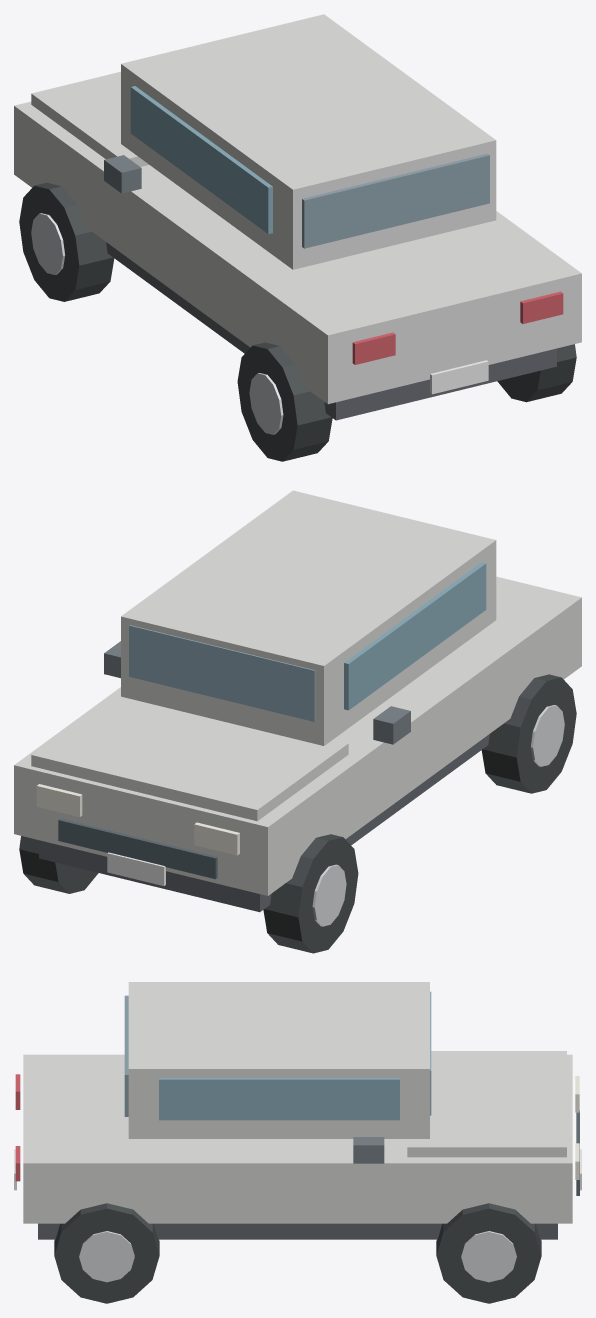
Rendered from fox.glb.
3 renders of one model, top to bottom at view 1: azimuth 30°, elevation 25°; view 2: azimuth 150°, elevation 25°; view 3: azimuth 270°, elevation 25°, orthographic. The views are drawn at different scales.
Visible parts, largest first — view 1: body_0001, roof_0018, rear_window_0020, side_window_0021, wheel_tire_0004, wheel_tire_0006, hood_0002, chassis_0000, wheel_tire_0013, wheel_rim_0005, wheel_rim_0007, license_plate_rear_0024 (+3 smaller); view 2: roof_0018, body_0001, hood_0002, windshield_0019, side_window_0021, wheel_tire_0004, wheel_tire_0006, chassis_0000, front_grille_0003, wheel_tire_0011, wheel_rim_0005, wheel_rim_0007 (+4 smaller); view 3: body_0001, roof_0018, hood_0002, side_window_0022, wheel_tire_0011, wheel_tire_0013, chassis_0000, wheel_rim_0012, wheel_rim_0014, mirror_0017, rear_window_0020.
Boxes of the visible parts, <box> form: body_0001: <box>14,101,581,404</box>; roof_0018: <box>121,14,496,269</box>; rear_window_0020: <box>302,153,489,248</box>; side_window_0021: <box>130,86,272,234</box>; wheel_tire_0004: <box>19,182,114,301</box>; wheel_tire_0006: <box>237,342,332,461</box>; hood_0002: <box>31,71,148,166</box>; chassis_0000: <box>106,242,556,420</box>; wheel_tire_0013: <box>497,344,576,402</box>; wheel_rim_0005: <box>31,213,65,274</box>; wheel_rim_0007: <box>249,373,283,434</box>; license_plate_rear_0024: <box>430,360,488,394</box>; roof_0018: <box>121,490,496,745</box>; body_0001: <box>14,576,581,895</box>; hood_0002: <box>31,689,348,821</box>; windshield_0019: <box>129,625,315,721</box>; side_window_0021: <box>344,562,486,710</box>; wheel_tire_0004: <box>263,834,358,953</box>; wheel_tire_0006: <box>481,674,576,793</box>; chassis_0000: <box>39,734,489,912</box>; front_grille_0003: <box>58,818,217,879</box>; wheel_tire_0011: <box>19,836,98,893</box>; wheel_rim_0005: <box>312,864,346,926</box>; wheel_rim_0007: <box>530,705,564,766</box>; body_0001: <box>23,1054,572,1223</box>; roof_0018: <box>128,982,429,1138</box>; hood_0002: <box>407,1051,566,1157</box>; side_window_0022: <box>159,1078,399,1120</box>; wheel_tire_0011: <box>436,1203,541,1303</box>; wheel_tire_0013: <box>54,1203,159,1303</box>; chassis_0000: <box>38,1223,557,1239</box>; wheel_rim_0012: <box>461,1231,516,1282</box>; wheel_rim_0014: <box>79,1231,134,1282</box>; mirror_0017: <box>353,1137,384,1163</box>; rear_window_0020: <box>124,995,128,1116</box>.
Size of the model in its own units: 1.89 by 1.56 by 3.67.
